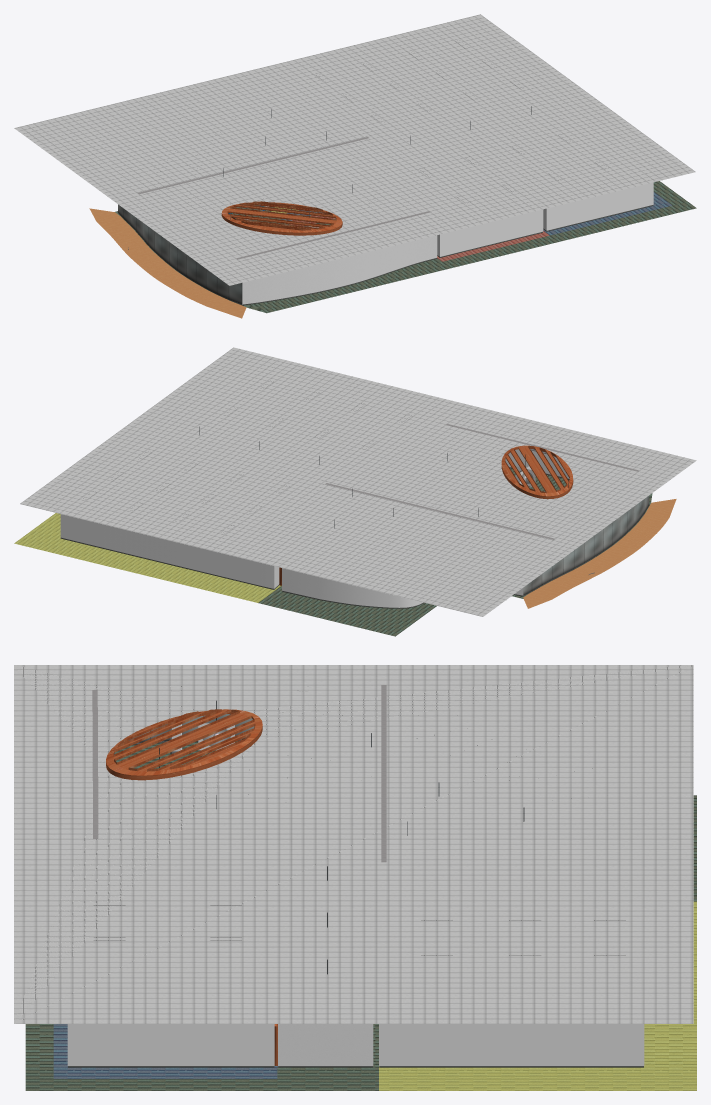
The model's file is BusinessObjectsCenter.dae.
The picture shows the model from 3 angles, top to bottom: view 1: azimuth 30°, elevation 25°; view 2: azimuth 150°, elevation 25°; view 3: azimuth 270°, elevation 25°; orthographic projection. The views are drawn at different scales.
Parts seen in each view (by area): view 1: polySurface85, Walls1, pPlane1_1, Porch, polySurface75, polySurface78; view 2: polySurface85, pPlane1_1, Walls1, Porch, polySurface75, polySurface78; view 3: polySurface85, Walls1, pPlane1_1, polySurface78.
Part boxes in pixels (box(x1,y1,x2,y2)): polySurface85: box(14, 14, 695, 285); Walls1: box(167, 132, 653, 304); pPlane1_1: box(115, 181, 696, 313); Porch: box(89, 208, 246, 318); polySurface75: box(118, 204, 242, 304); polySurface78: box(118, 205, 653, 305); polySurface85: box(20, 347, 696, 616); pPlane1_1: box(14, 468, 652, 636); Walls1: box(60, 449, 619, 607); Porch: box(523, 499, 676, 608); polySurface75: box(523, 495, 649, 595); polySurface78: box(60, 467, 648, 608); polySurface85: box(14, 665, 693, 1023); Walls1: box(67, 686, 644, 1065); pPlane1_1: box(25, 741, 696, 1090); polySurface78: box(68, 739, 643, 1067).
Bounding box in the file's own units: 77.89 × 7.87 × 61.05.
